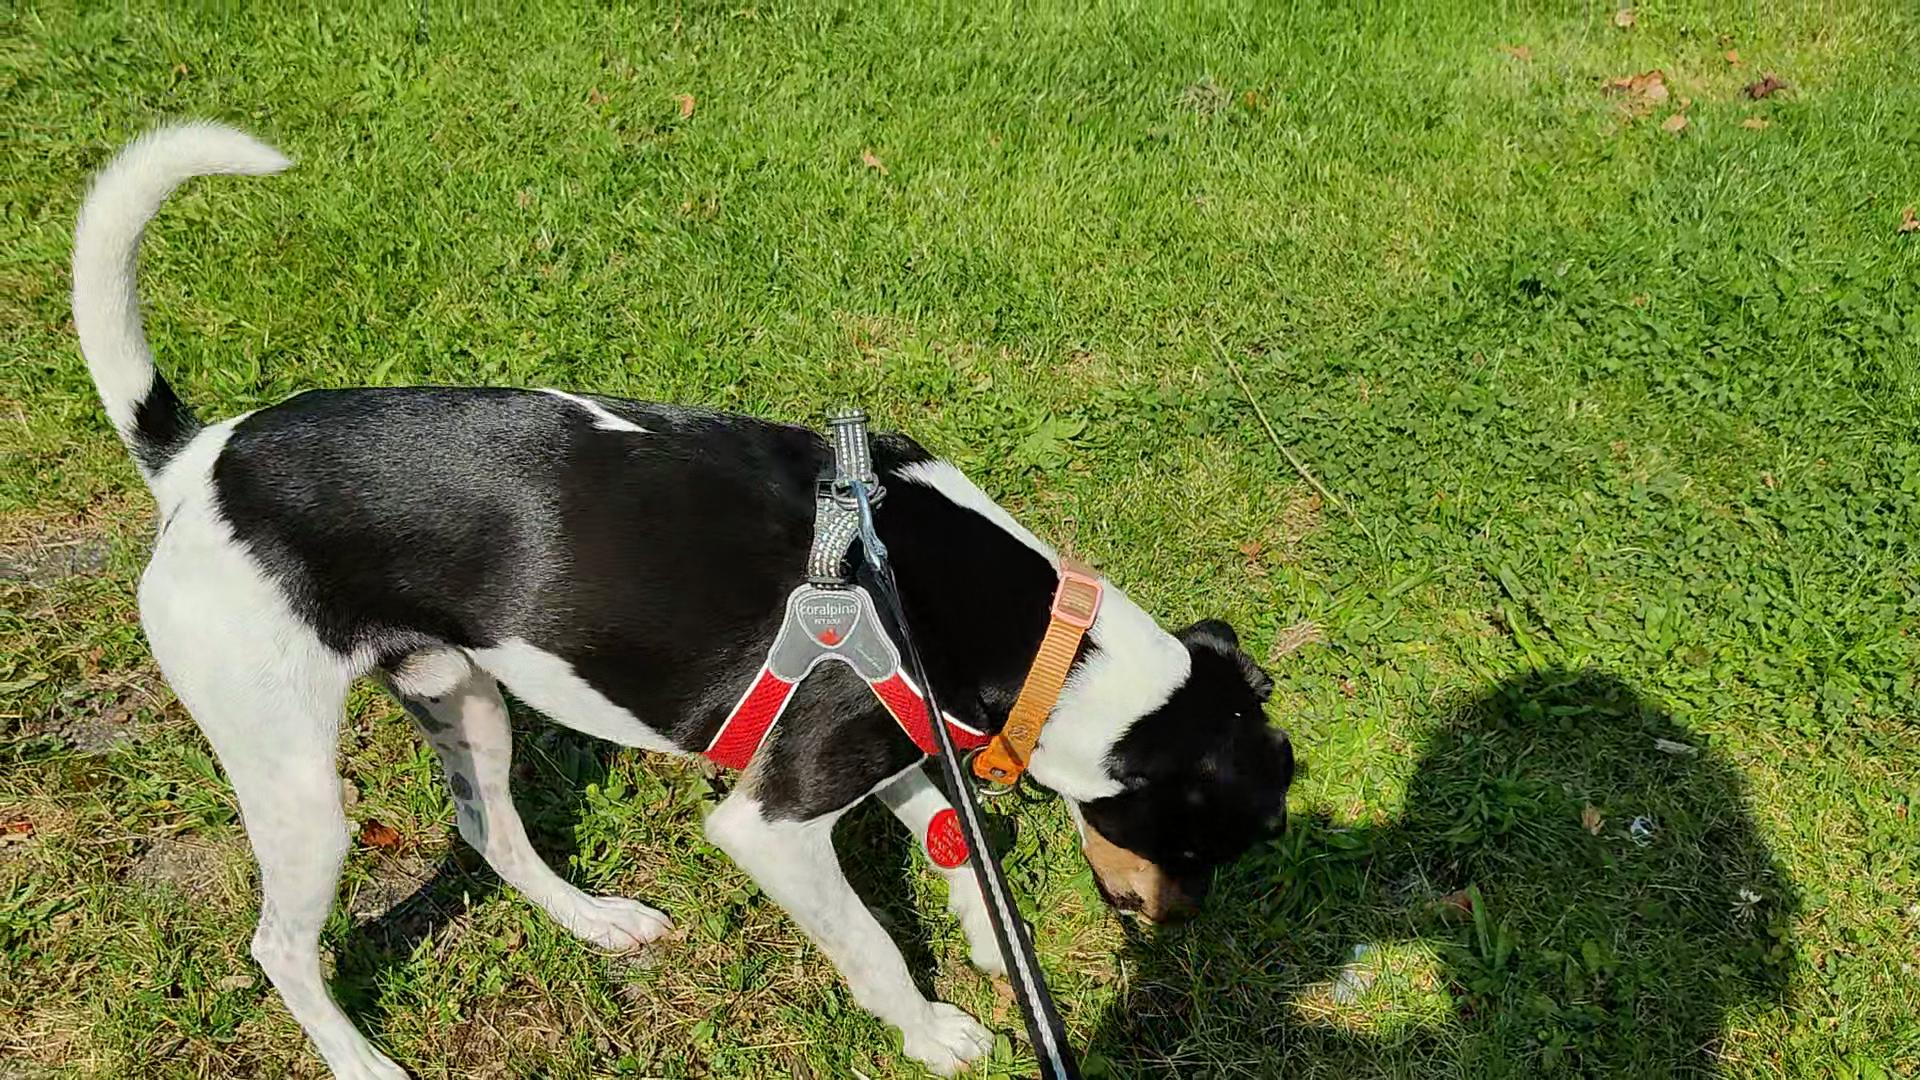Dog: (65, 112, 1303, 1079)
